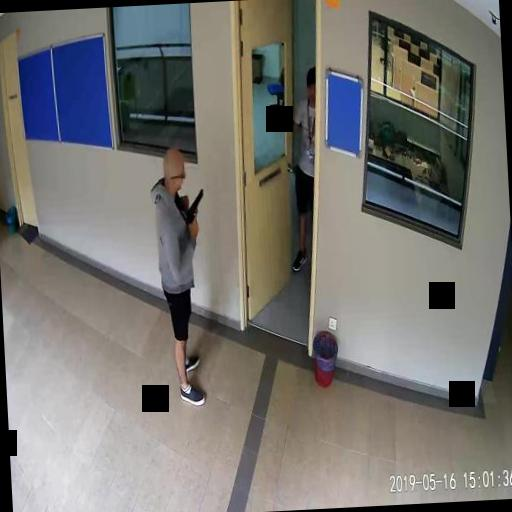Handgun: (184, 188, 202, 228)
